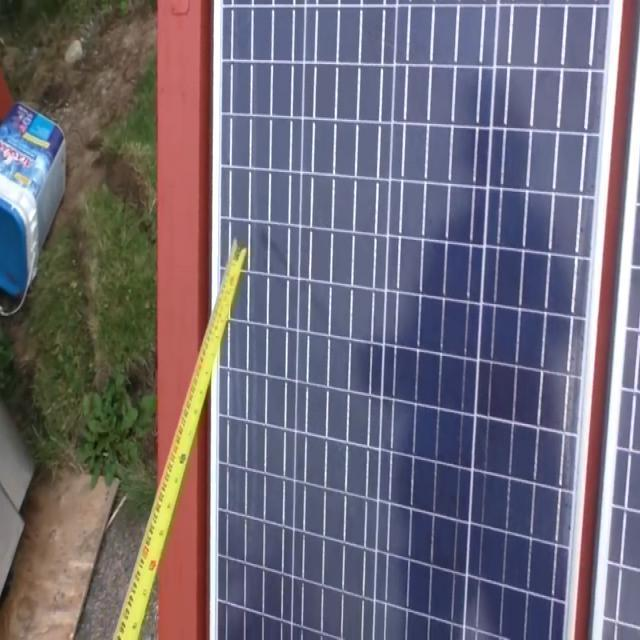Normal Solar Panel: (212, 4, 640, 640)
